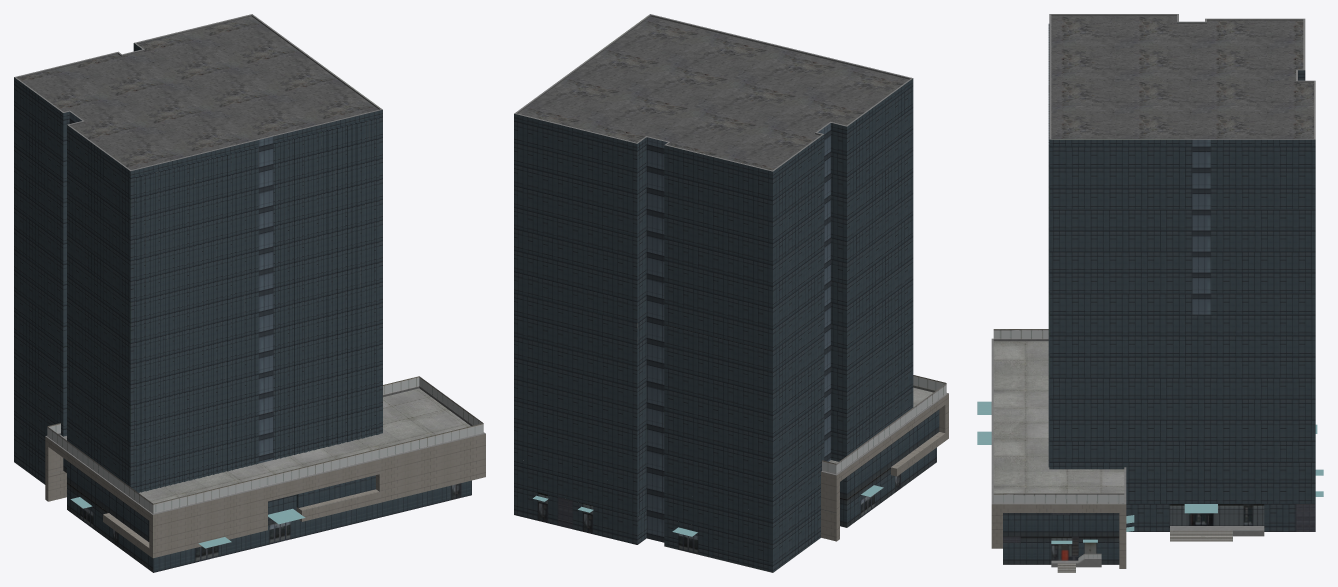
3 views of the same model, side by side, from view 1: azimuth 30°, elevation 25°; view 2: azimuth 150°, elevation 25°; view 3: azimuth 270°, elevation 25° (orthographic). The views are drawn at different scales.
Visible parts, largest first — view 1: E001-A001-F002, E001-A001-Ding, E001-A001-F018, E001-A001-F001, E001-A001-F012, E001-A001-F017, E001-A001-F009, E001-A001-F005, E001-A001-F010, E001-A001-F013, E001-A001-F014, E001-A001-F011 (+7 smaller); view 2: E001-A001-Ding, E001-A001-F002, E001-A001-F001, E001-A001-F018, E001-A001-F016, E001-A001-F007, E001-A001-F009, E001-A001-F011, E001-A001-F012, E001-A001-F014, E001-A001-F006, E001-A001-F008 (+7 smaller); view 3: E001-A001-Ding, E001-A001-F002, E001-A001-F001, E001-A001-F018, E001-A001-F008, E001-A001-F009, E001-A001-F010, E001-A001-F011, E001-A001-F012, E001-A001-F013, E001-A001-F014, E001-A001-F015 (+7 smaller).
Boxes of the visible parts, left/top/right/bottom form: E001-A001-F002: left=14, top=376, right=485, bottom=558; E001-A001-Ding: left=14, top=14, right=382, bottom=171; E001-A001-F018: left=14, top=43, right=382, bottom=198; E001-A001-F001: left=14, top=435, right=471, bottom=572; E001-A001-F012: left=14, top=208, right=382, bottom=322; E001-A001-F017: left=14, top=105, right=382, bottom=219; E001-A001-F009: left=14, top=270, right=382, bottom=384; E001-A001-F005: left=14, top=352, right=382, bottom=466; E001-A001-F010: left=14, top=249, right=382, bottom=363; E001-A001-F013: left=14, top=187, right=382, bottom=301; E001-A001-F014: left=14, top=167, right=382, bottom=281; E001-A001-F011: left=14, top=228, right=382, bottom=343; E001-A001-Ding: left=514, top=14, right=912, bottom=171; E001-A001-F002: left=514, top=375, right=948, bottom=544; E001-A001-F001: left=514, top=447, right=936, bottom=572; E001-A001-F018: left=514, top=78, right=913, bottom=200; E001-A001-F016: left=514, top=129, right=913, bottom=243; E001-A001-F007: left=514, top=322, right=913, bottom=436; E001-A001-F009: left=514, top=279, right=913, bottom=393; E001-A001-F011: left=514, top=236, right=913, bottom=350; E001-A001-F012: left=514, top=215, right=913, bottom=329; E001-A001-F014: left=514, top=172, right=913, bottom=286; E001-A001-F006: left=514, top=344, right=913, bottom=458; E001-A001-F008: left=514, top=301, right=913, bottom=415; E001-A001-Ding: left=1049, top=14, right=1315, bottom=139; E001-A001-F002: left=977, top=329, right=1315, bottom=548; E001-A001-F001: left=1003, top=424, right=1323, bottom=572; E001-A001-F018: left=1048, top=24, right=1315, bottom=167; E001-A001-F008: left=1048, top=355, right=1315, bottom=377; E001-A001-F009: left=1048, top=334, right=1315, bottom=356; E001-A001-F010: left=1048, top=313, right=1315, bottom=335; E001-A001-F011: left=1048, top=292, right=1315, bottom=314; E001-A001-F012: left=1048, top=271, right=1315, bottom=293; E001-A001-F013: left=1048, top=250, right=1315, bottom=272; E001-A001-F014: left=1048, top=229, right=1315, bottom=251; E001-A001-F015: left=1048, top=208, right=1315, bottom=230.
Bounding box in the file's own units: 5.25 × 5.6 × 4.48.
4 materials, 4 textured.
